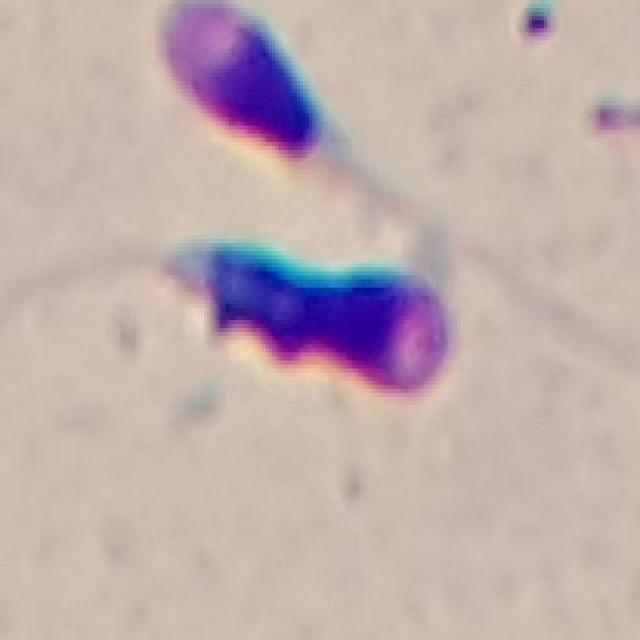abnormal sperm: (31, 225, 460, 411), (147, 3, 474, 216)
